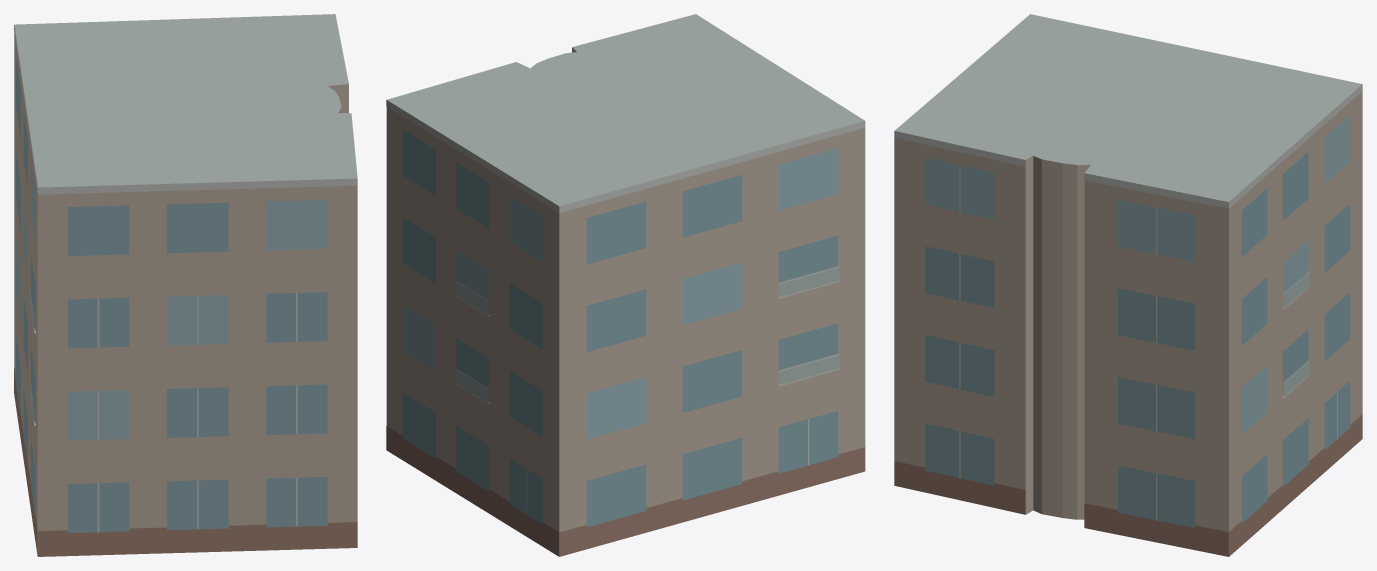
File: survey-upis-32605889.glb
3 renders of one model, left to right at view 1: azimuth 30°, elevation 25°; view 2: azimuth 150°, elevation 25°; view 3: azimuth 270°, elevation 25°, orthographic. The views are drawn at different scales.
Parts seen in each view (by area): view 1: survey-upis-32605889.tmp; view 2: survey-upis-32605889.tmp; view 3: survey-upis-32605889.tmp.
Boxes of the visible parts, <box> form: survey-upis-32605889.tmp: <box>14,14,357,556</box>; survey-upis-32605889.tmp: <box>386,14,865,556</box>; survey-upis-32605889.tmp: <box>894,14,1362,556</box>.
Bounding box in the file's own units: 14.45 × 12.7 × 15.2.
